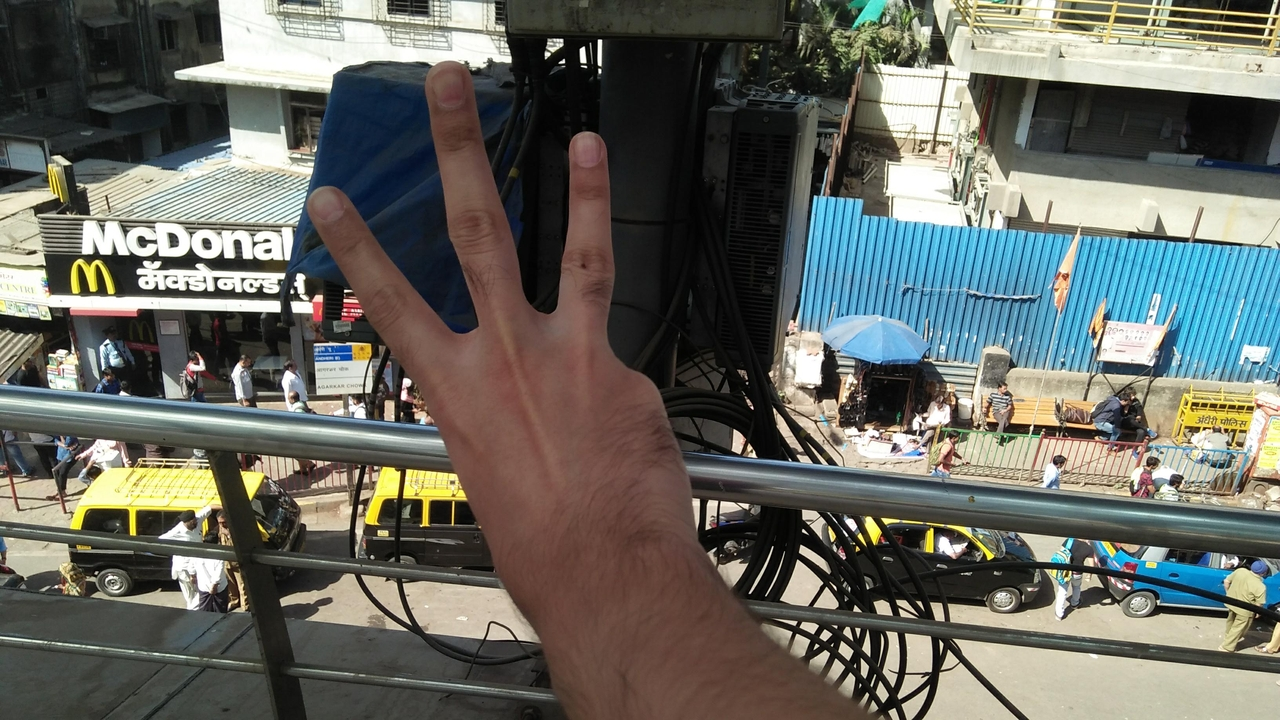fingertip: (296, 176, 358, 230), (416, 56, 476, 108), (560, 124, 610, 176)
